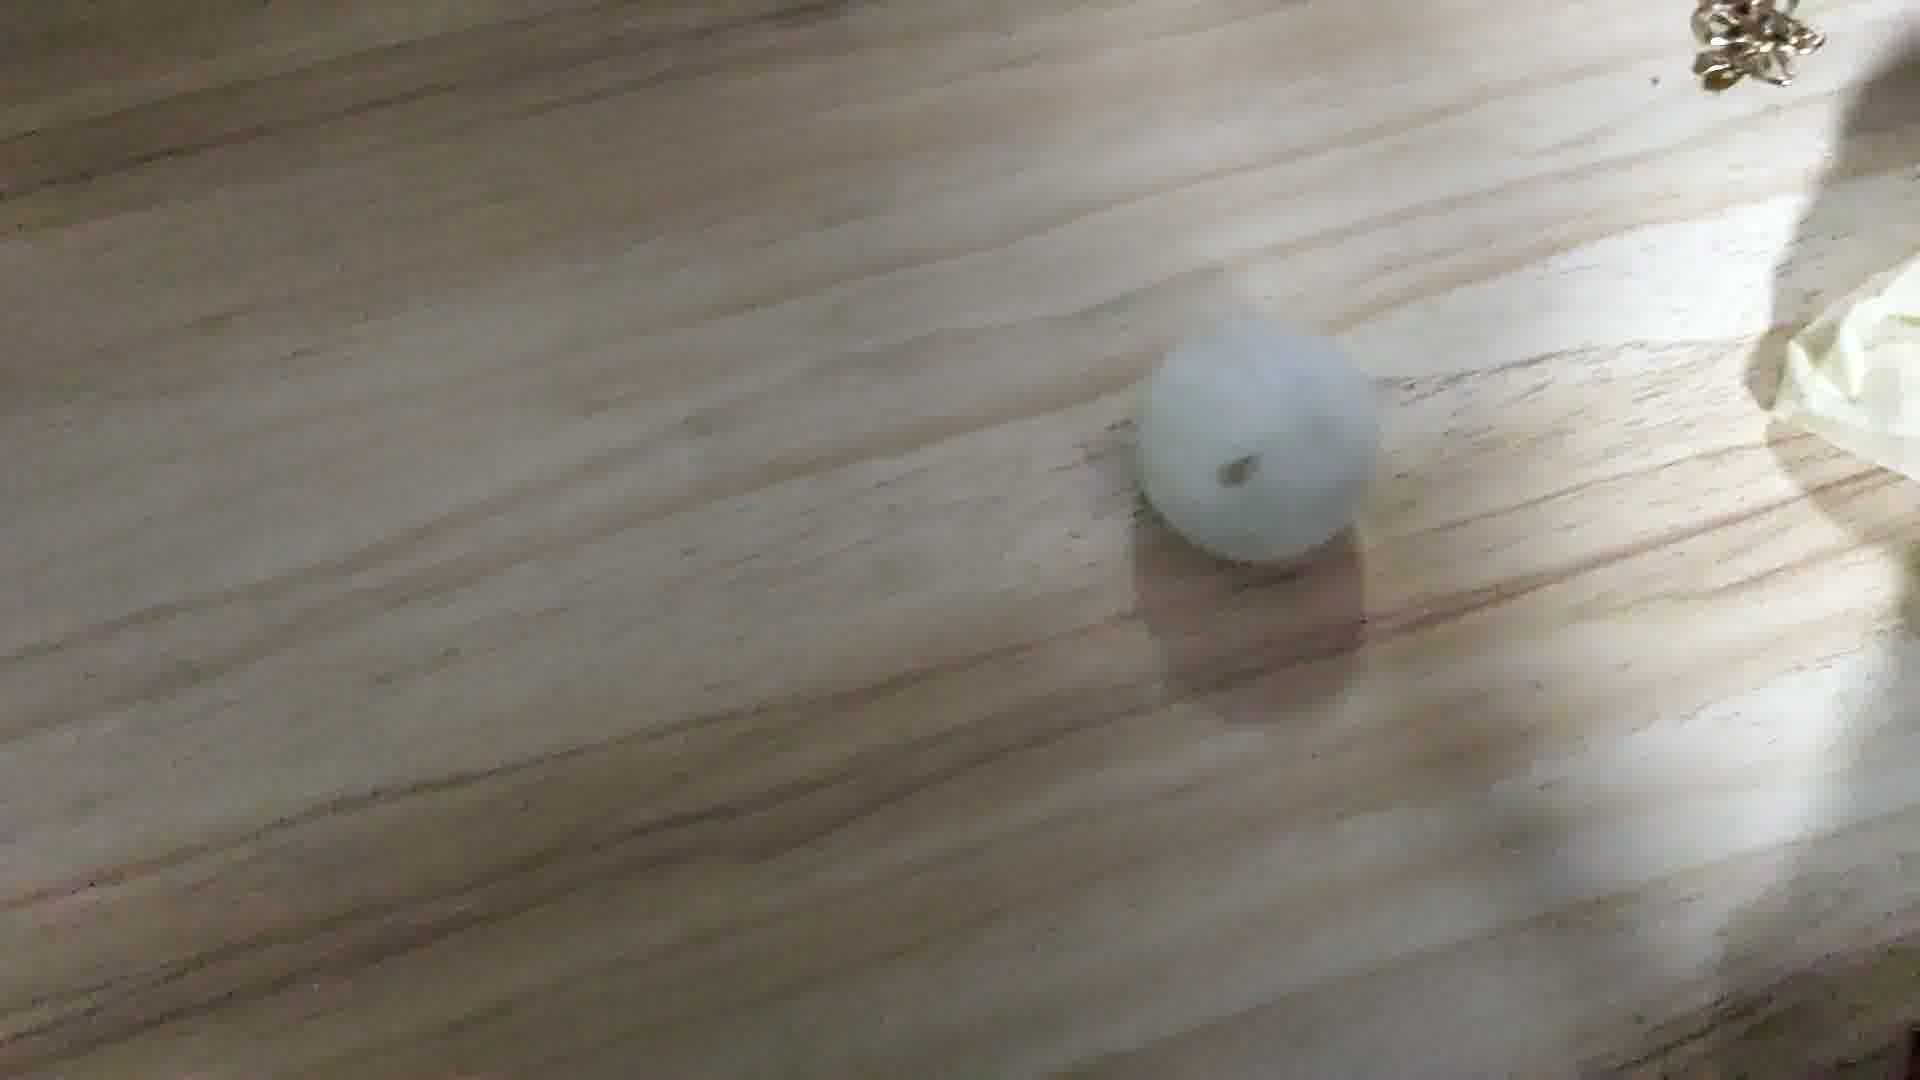Ball: (1127, 306, 1379, 571)
